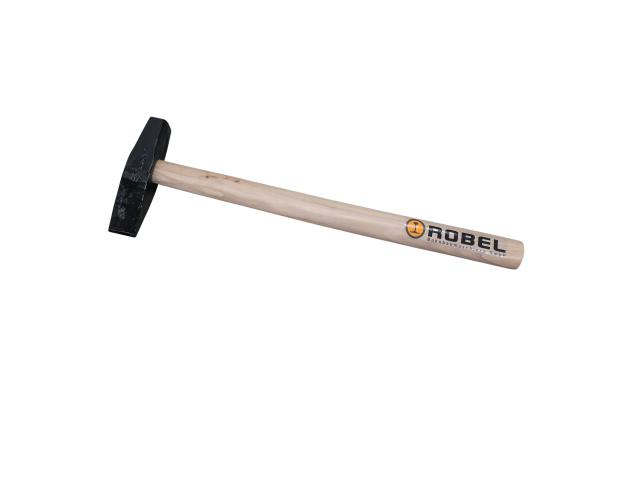Hammer: (109, 118, 524, 269)
